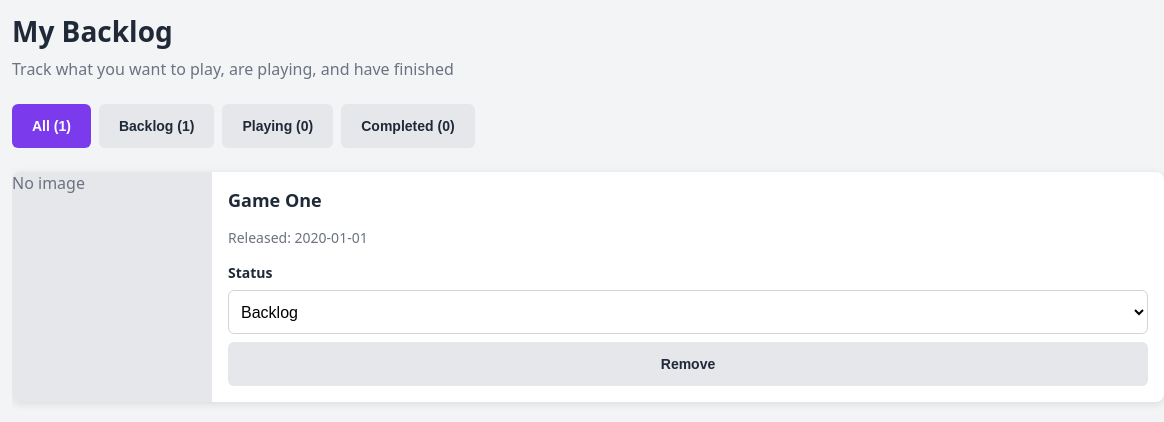
Scenario: BacklogPage › removes a game from the backlog
The width and height of the screenshot is (1164, 422).
What coordinates should you click on to do the following:
click the button "Remove"
I would click on:
 (688, 364)
Its box is [228,342,1148,386].
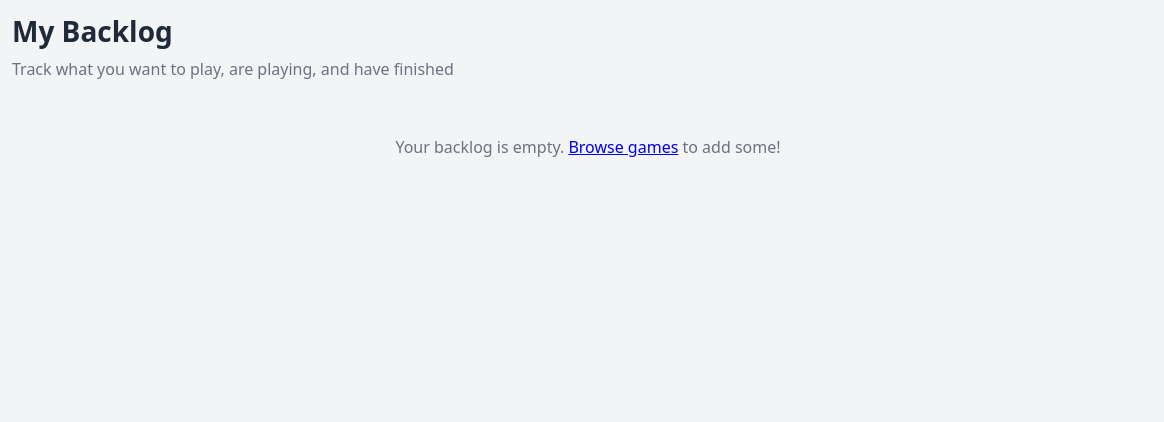
Expected: the text "Your backlog is empty. Browse games to add some!" is shown, [395,136,780,158]
